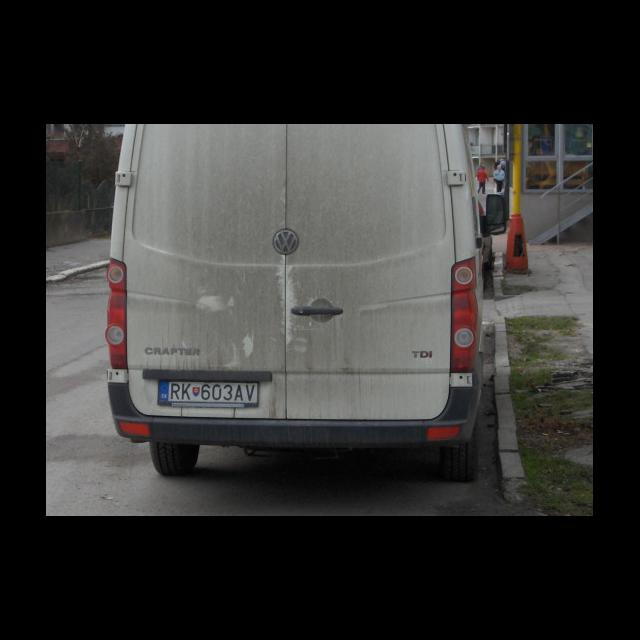Plate: (157, 378, 260, 407)
